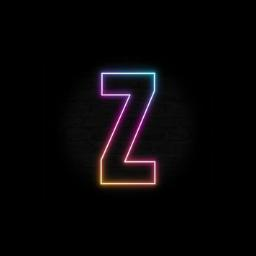z: (96, 68, 162, 190)
